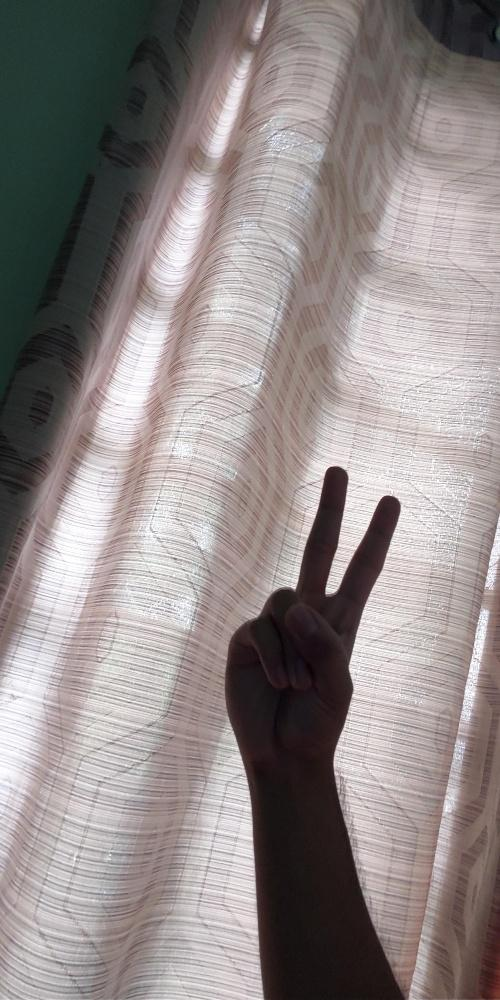v: (222, 465, 403, 759)
